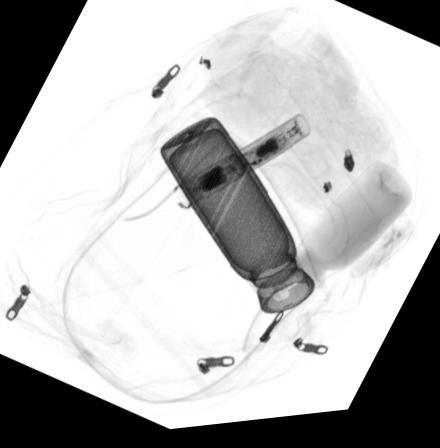Baton: (174, 118, 312, 215)
